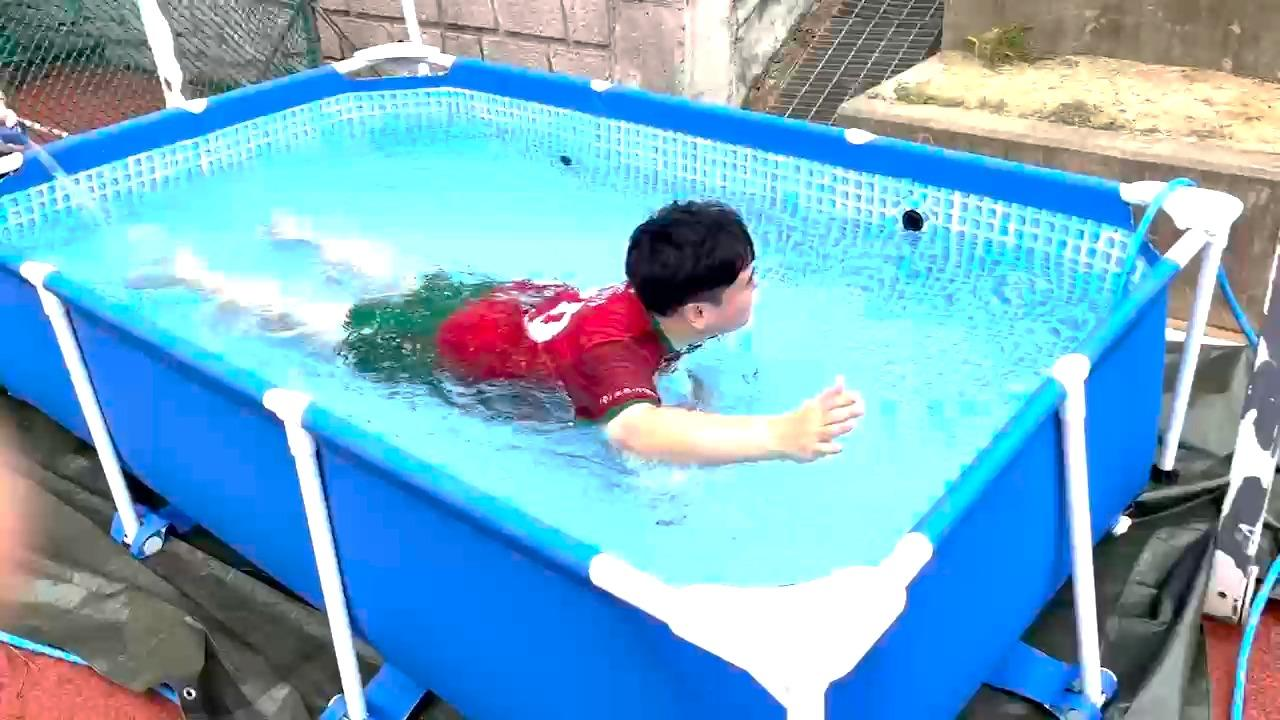Swimming: (110, 149, 904, 484)
